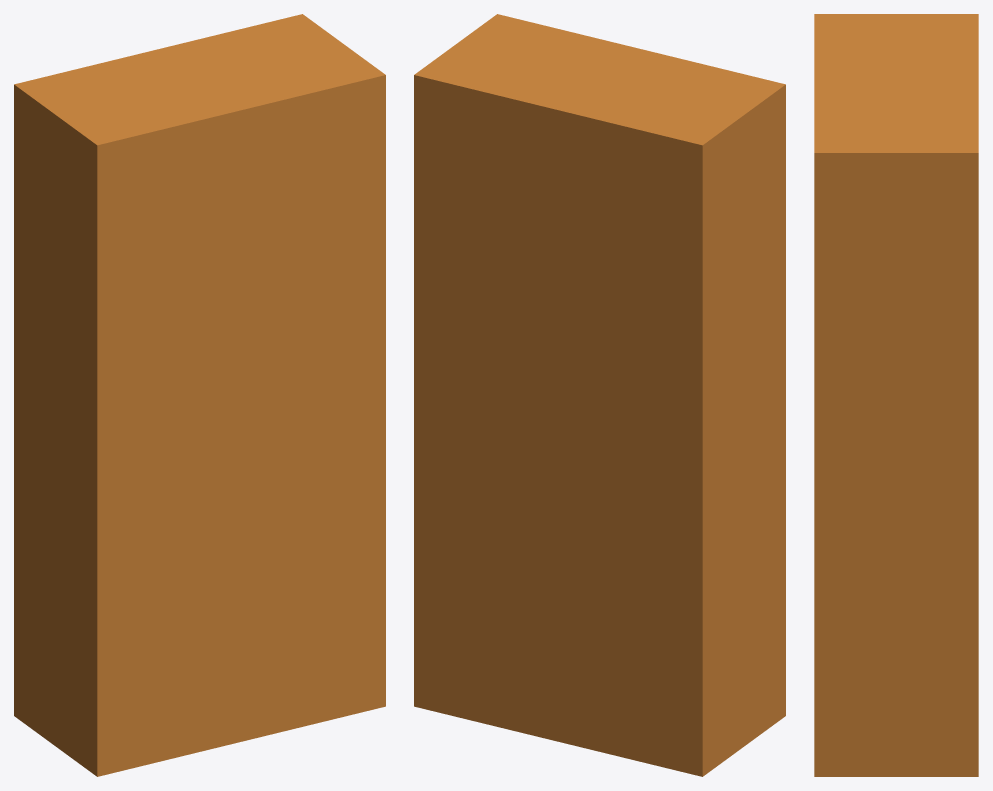
3 views of the same model, side by side, from view 1: azimuth 30°, elevation 25°; view 2: azimuth 150°, elevation 25°; view 3: azimuth 270°, elevation 25° (orthographic).
Visible parts, largest first — view 1: L4-6-M2-3F9-M07; view 2: L4-6-M2-3F9-M07; view 3: L4-6-M2-3F9-M07.
Boxes of the visible parts, x1,y1,x2,y2 form: L4-6-M2-3F9-M07: (14, 14, 385, 776); L4-6-M2-3F9-M07: (414, 14, 785, 776); L4-6-M2-3F9-M07: (814, 14, 978, 776).
Bounding box in the file's own units: 0.09 × 0.1882 × 0.045.
